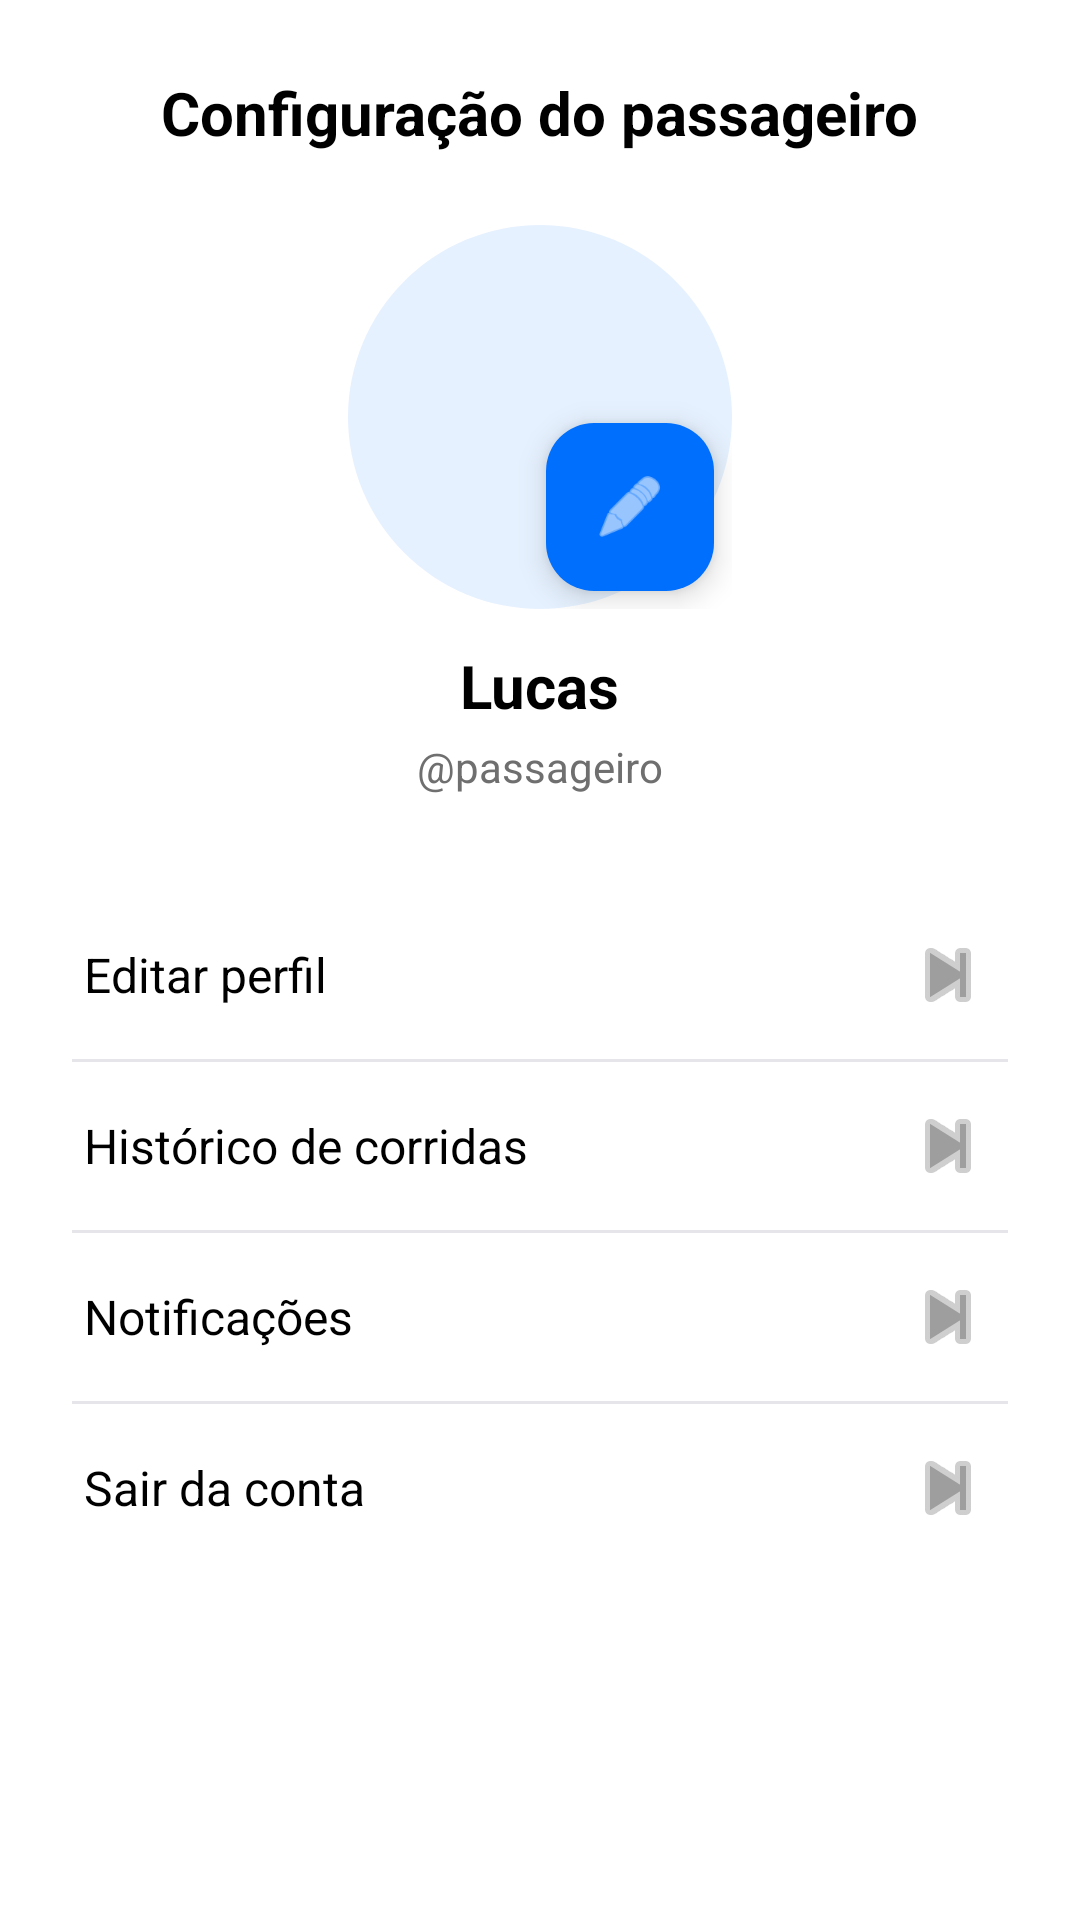

Named icons in this screenshot (1080px x 1920px) and their centers, (x=x, y=y):
Editar perfil: (x=630, y=507)
next: (x=948, y=975), (x=948, y=1146), (x=948, y=1317), (x=948, y=1488)
